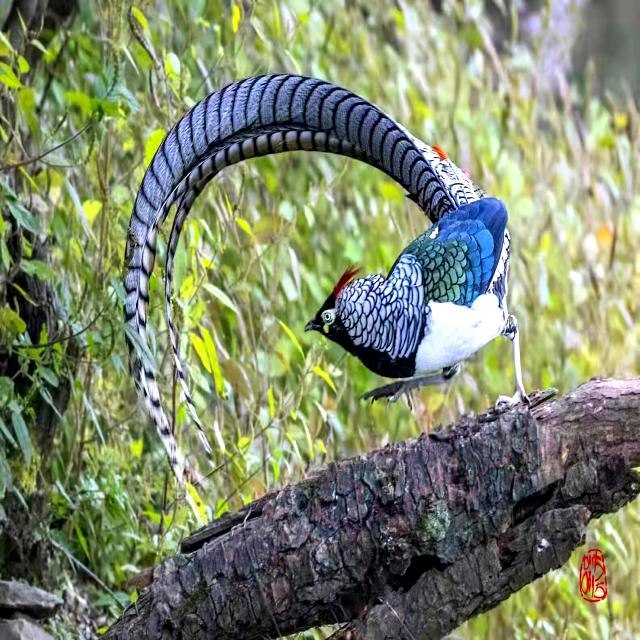Chrysolophus amherstiae: (124, 74, 481, 479)
